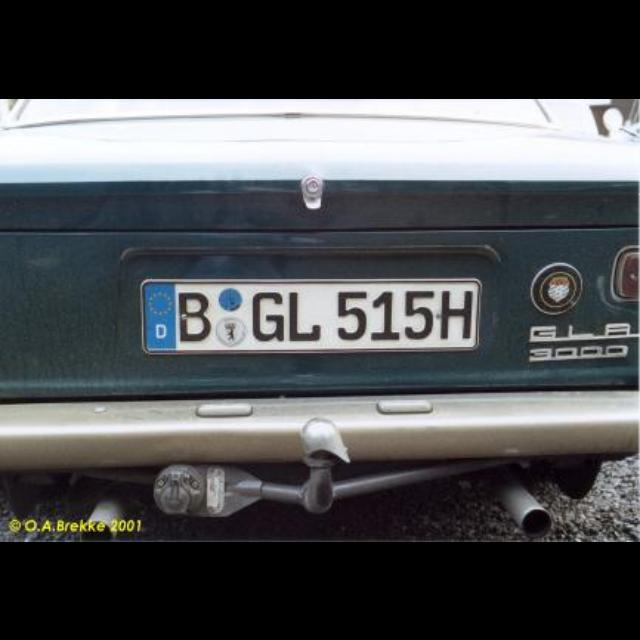license-plates: (141, 280, 481, 354)
